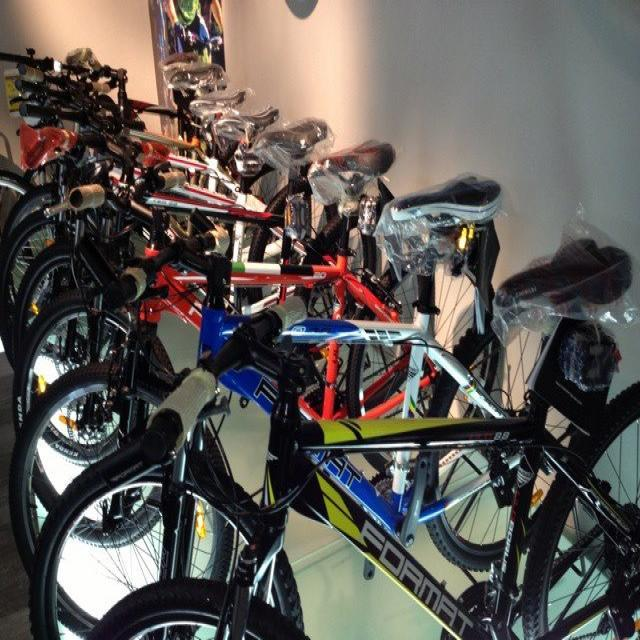Bicycle: (16, 170, 621, 632), (71, 227, 639, 640), (11, 117, 483, 554), (18, 93, 461, 367), (4, 35, 290, 228)
